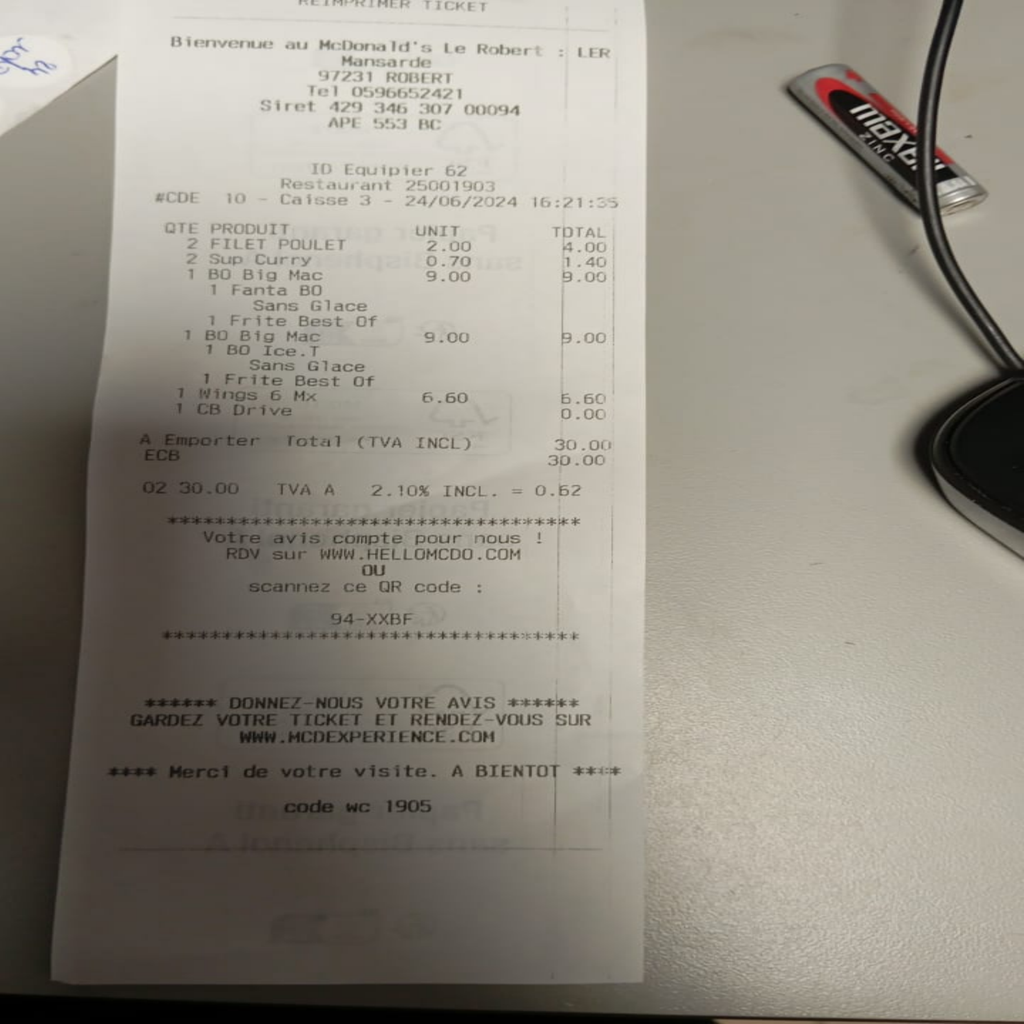recipt: (53, 0, 644, 978)
